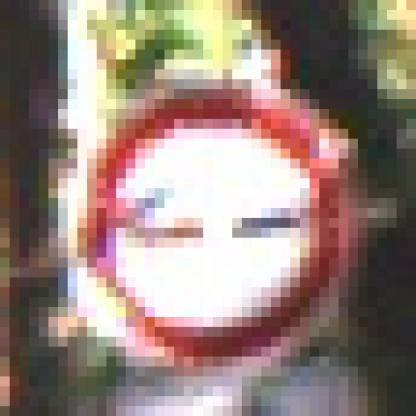No Overtaking: (59, 61, 369, 358)
